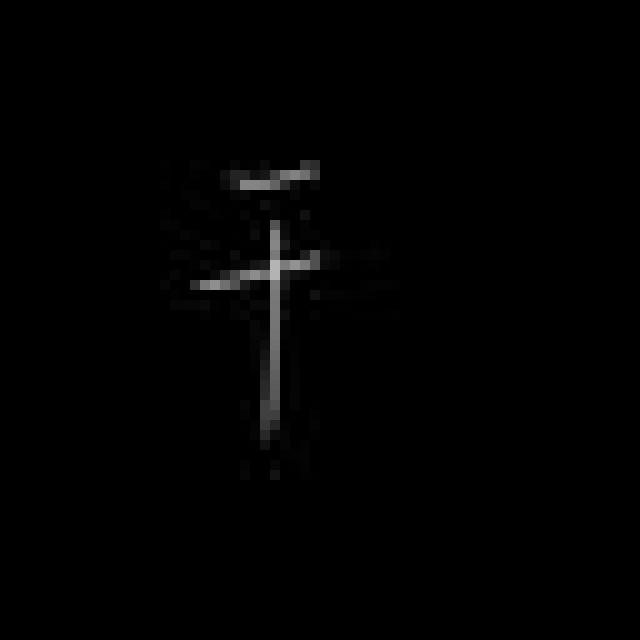1000 -a thousand-: (182, 159, 337, 436)
